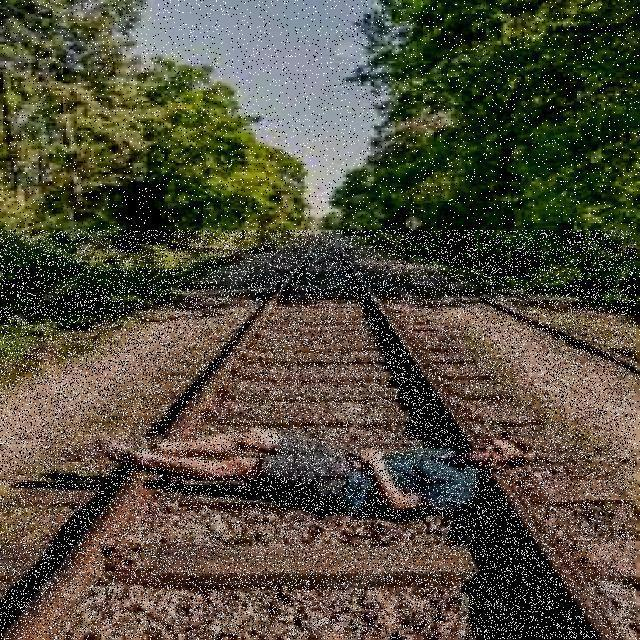rail: (1, 232, 637, 640)
